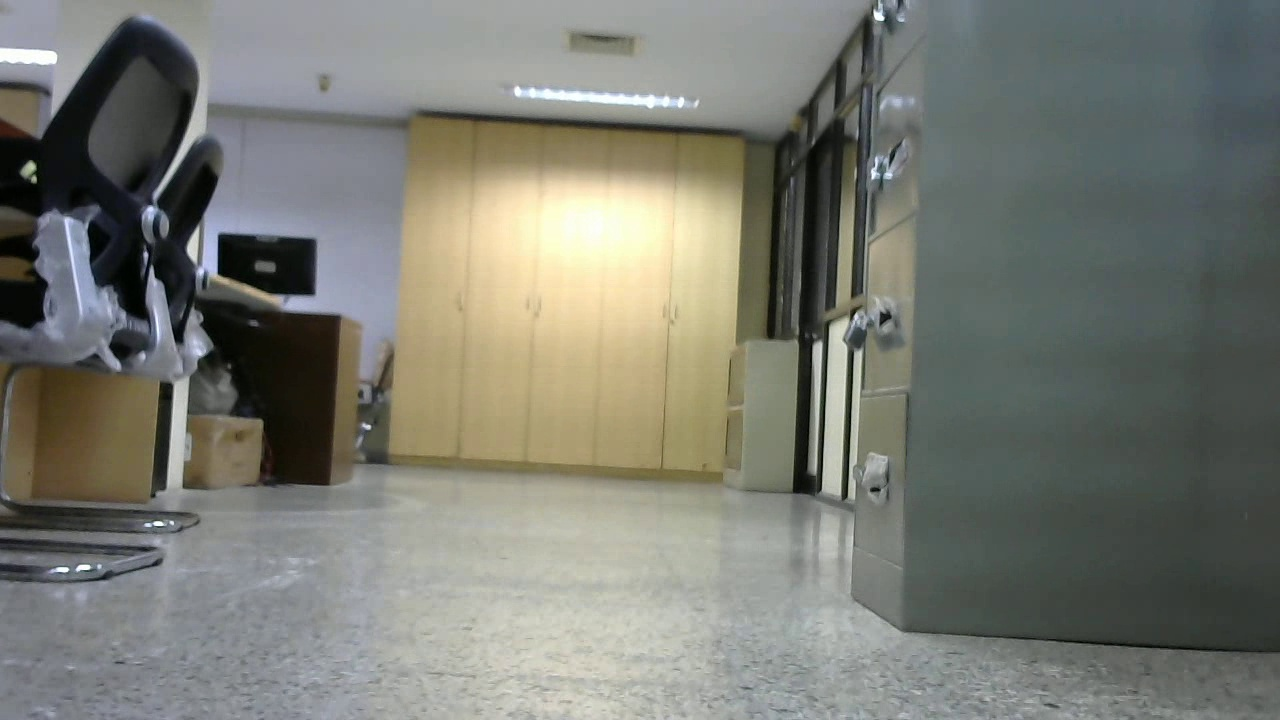chair: (1, 15, 201, 581)
